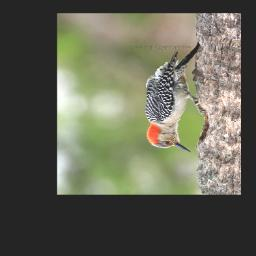Woodpecker: (139, 36, 204, 156)
